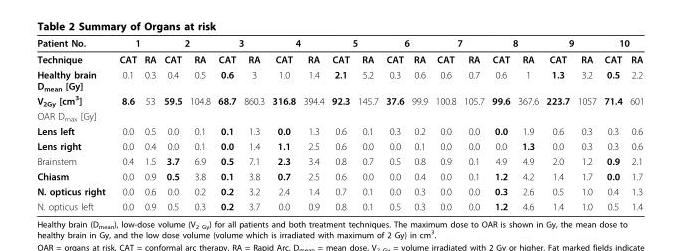table: (36, 36, 643, 211)
table column: (36, 36, 111, 211), (267, 36, 298, 211), (541, 36, 572, 211), (298, 36, 327, 211), (430, 36, 459, 211), (111, 36, 139, 211), (185, 36, 213, 211), (239, 36, 267, 211), (353, 36, 381, 211), (459, 36, 487, 211), (513, 36, 541, 211), (572, 36, 599, 211), (159, 36, 185, 211), (213, 36, 239, 211), (327, 36, 353, 211), (381, 36, 407, 211), (487, 36, 513, 211), (599, 36, 625, 211), (407, 36, 430, 211), (139, 36, 159, 211), (625, 36, 643, 211)
table column header: (36, 36, 643, 66)
table projected row header: (36, 108, 643, 123)
table row: (36, 66, 643, 92), (36, 50, 643, 66), (36, 92, 643, 108), (36, 108, 643, 123), (36, 123, 643, 138), (36, 138, 643, 153), (36, 153, 643, 168), (36, 168, 643, 183), (36, 183, 643, 198), (36, 36, 643, 50), (36, 198, 643, 211)
table spanning cell: (36, 36, 111, 66), (267, 36, 327, 50), (541, 36, 599, 50), (430, 36, 487, 50), (159, 36, 213, 50), (213, 36, 267, 50), (327, 36, 381, 50), (487, 36, 541, 50), (381, 36, 430, 50), (111, 36, 159, 50), (599, 36, 643, 50)
